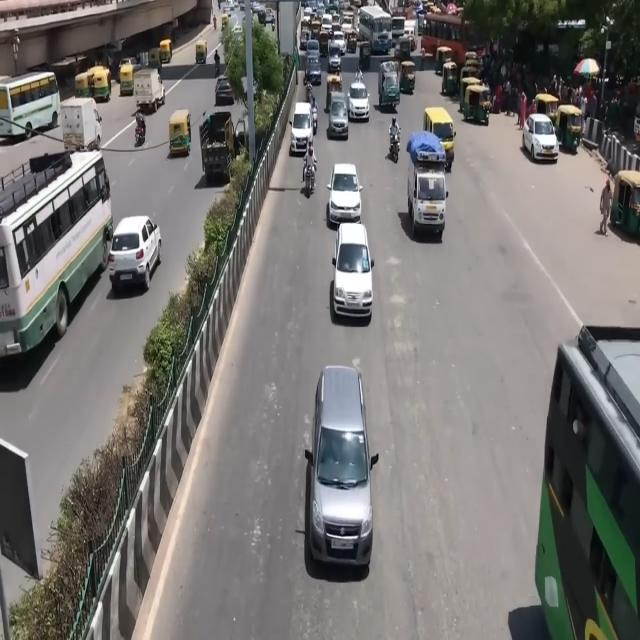auto: (423, 106, 456, 171), (461, 80, 490, 126), (169, 109, 191, 156), (326, 74, 343, 114), (399, 61, 416, 95), (397, 33, 414, 62), (358, 38, 372, 69), (147, 46, 161, 69), (195, 40, 207, 64), (318, 30, 329, 56), (345, 31, 357, 54), (221, 14, 229, 31)
bike-auto: (302, 140, 317, 193), (388, 130, 401, 163), (134, 116, 146, 146)
